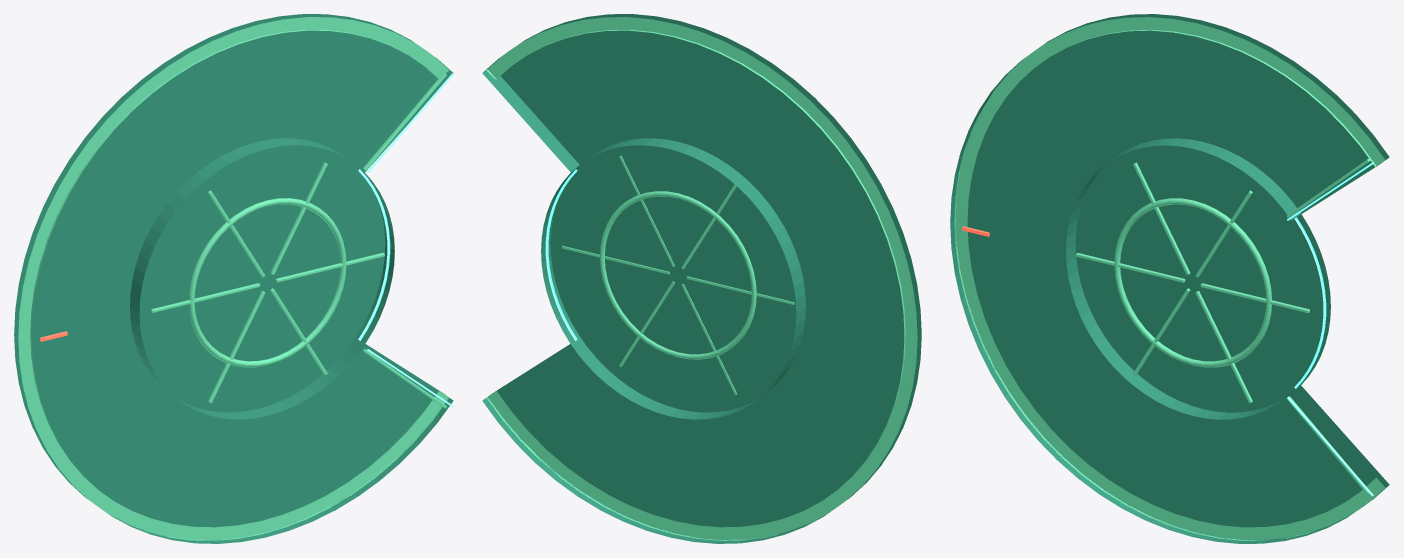
Rendered from bio-panel-fun0-high.glb.
3 renders of one model, left to right at view 1: azimuth 30°, elevation 25°; view 2: azimuth 150°, elevation 25°; view 3: azimuth 330°, elevation 25°, orthographic.
Visible parts, largest first — view 1: RENDER_PANEL_SHELL, RENDER_PANEL_FRAME, RENDER_PANEL_SIGNAL; view 2: RENDER_PANEL_SHELL, RENDER_PANEL_FRAME, RENDER_PANEL_SIGNAL; view 3: RENDER_PANEL_SHELL, RENDER_PANEL_FRAME, RENDER_PANEL_SIGNAL.
Boxes of the visible parts, x1,y1,x2,y2 form: RENDER_PANEL_SHELL: (14,14,453,543); RENDER_PANEL_FRAME: (18,17,449,540); RENDER_PANEL_SIGNAL: (358,73,453,407); RENDER_PANEL_SHELL: (482,14,921,543); RENDER_PANEL_FRAME: (486,17,917,540); RENDER_PANEL_SIGNAL: (545,169,577,340); RENDER_PANEL_SHELL: (950,14,1389,543); RENDER_PANEL_FRAME: (954,17,1385,540); RENDER_PANEL_SIGNAL: (1287,162,1373,496).
Size of what is drawn, in the model's own units: 36.2 by 41 by 1.95.
